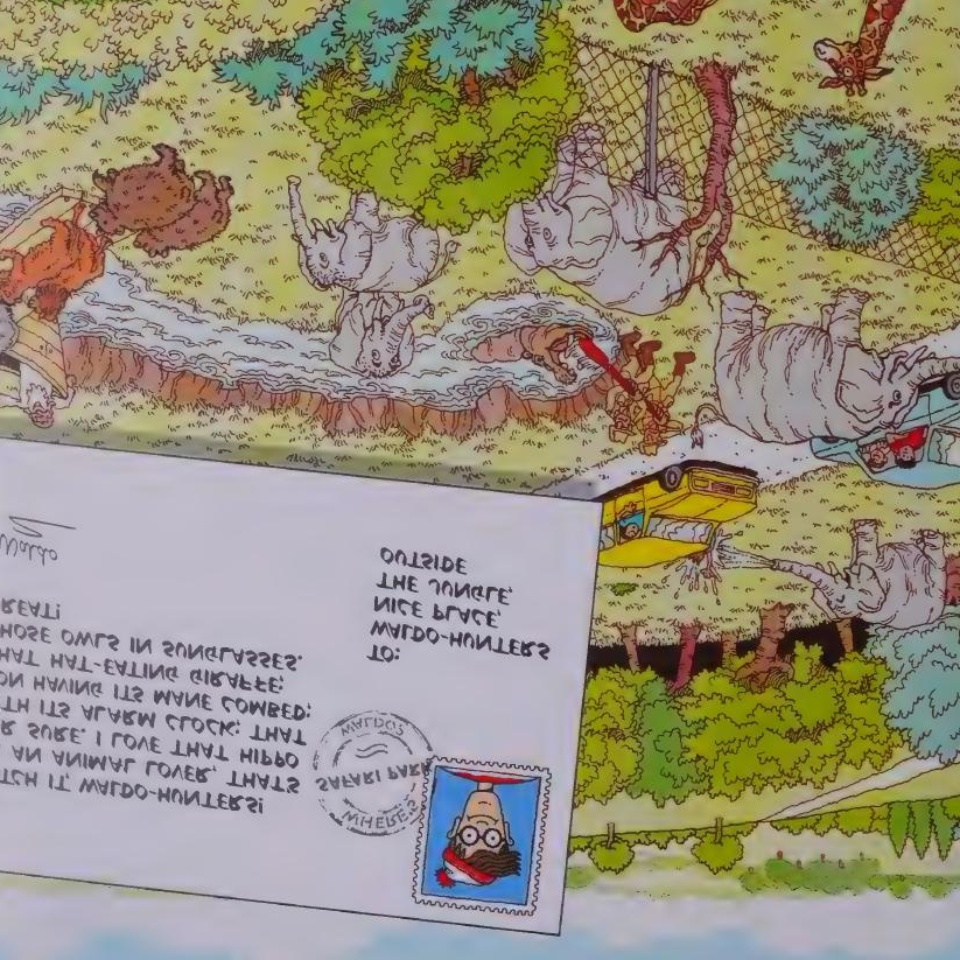waldo: (431, 771, 529, 896)
